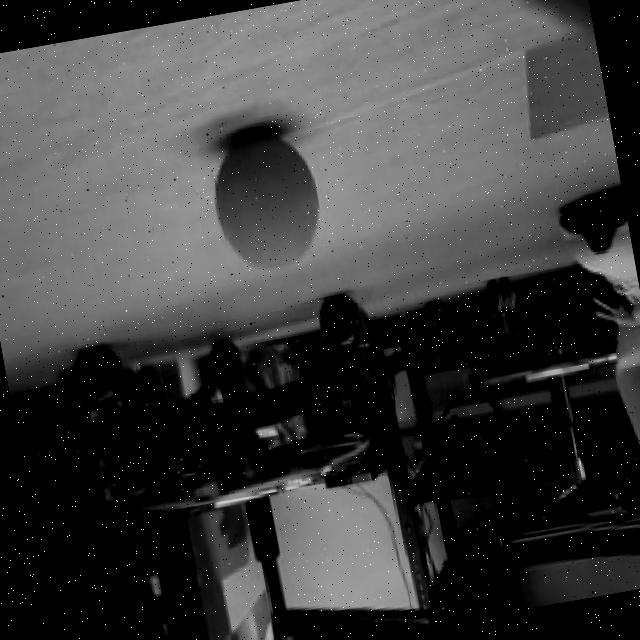ping-pong-ball: (206, 122, 330, 274)
